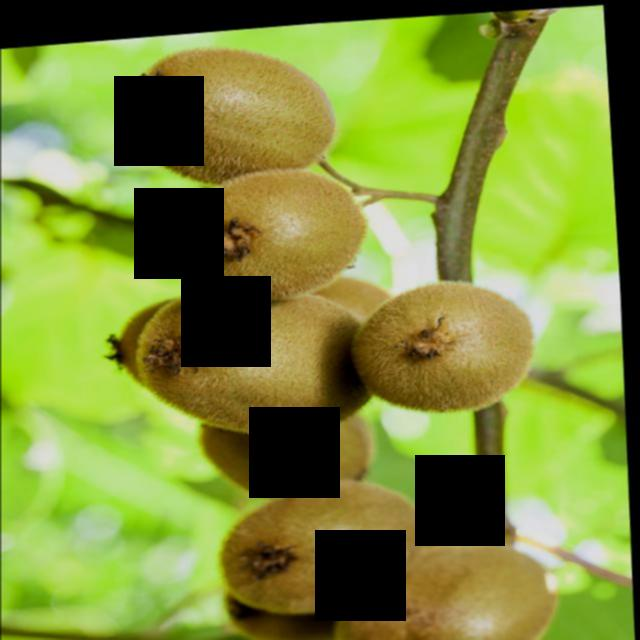kiwi: (141, 274, 385, 444), (124, 30, 348, 190), (218, 469, 437, 616), (180, 157, 381, 306), (351, 274, 547, 421), (334, 534, 566, 640), (199, 386, 379, 499)
